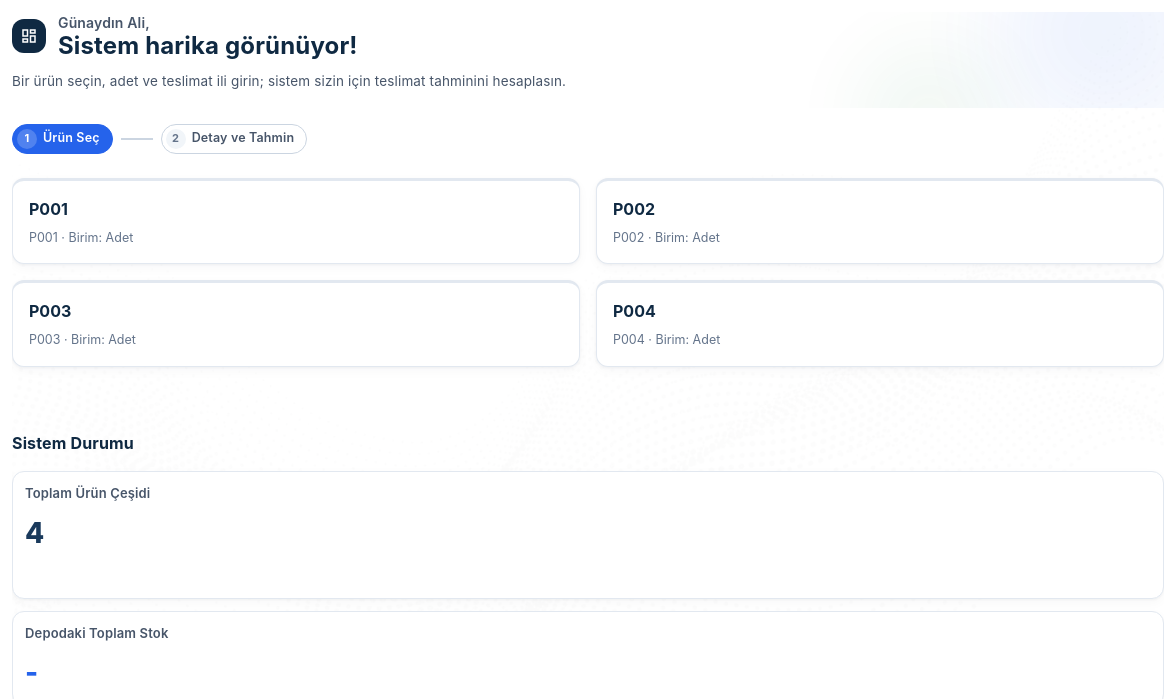
Test: Dashboard (product wizard) › validates quantity and location before navigating to the result screen
This screenshot has width=1176, height=699.
Click the text "P001" at x=48, y=209, box [29,197,68,221]
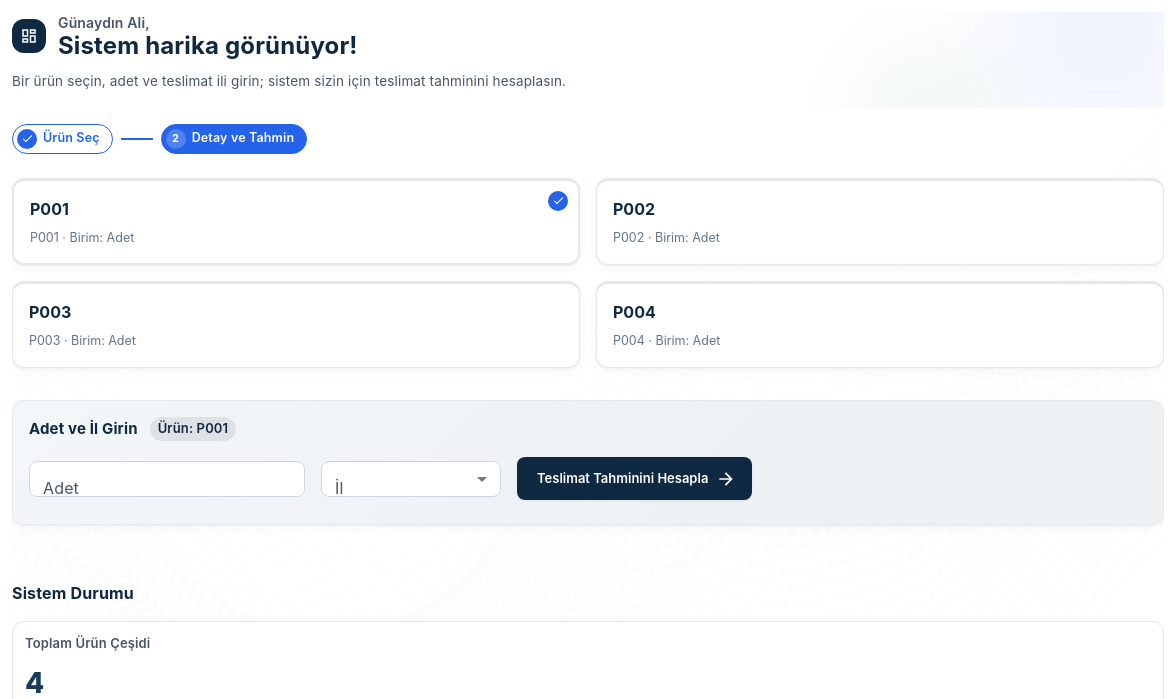
Click the button "Teslimat Tahminini Hesapla" at x=635, y=478, box [517,457,752,500]
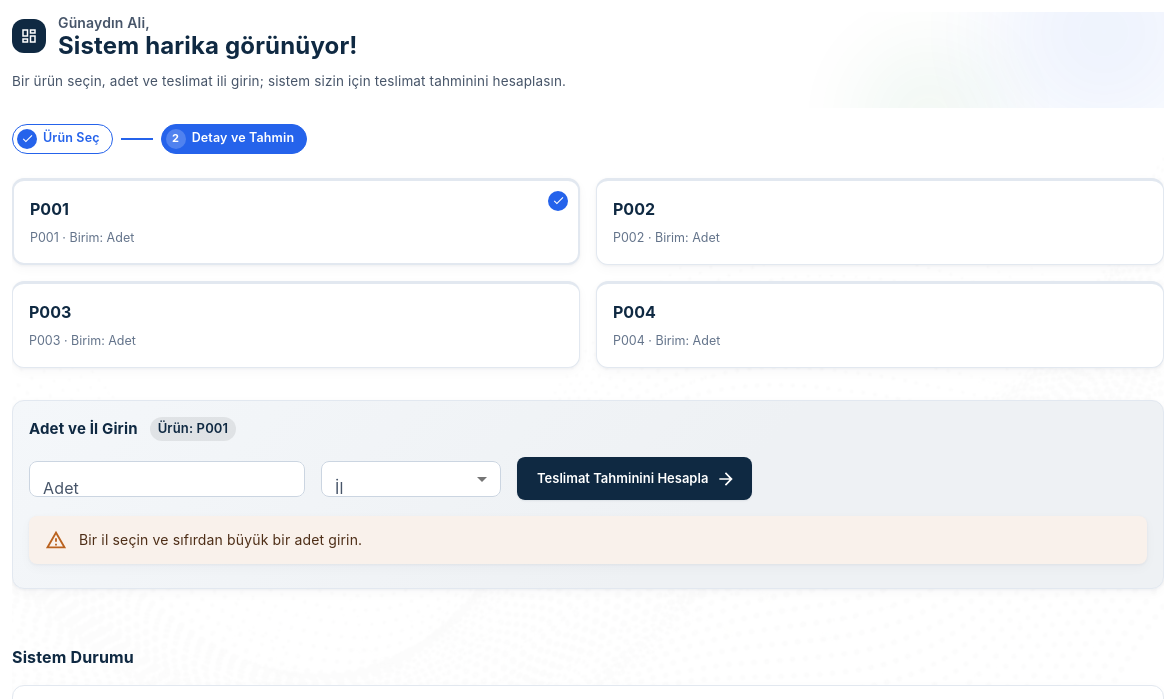
Expected: the text "Bir il seçin ve sıfırdan büyük bir adet girin." is shown, [79,531,362,548]
